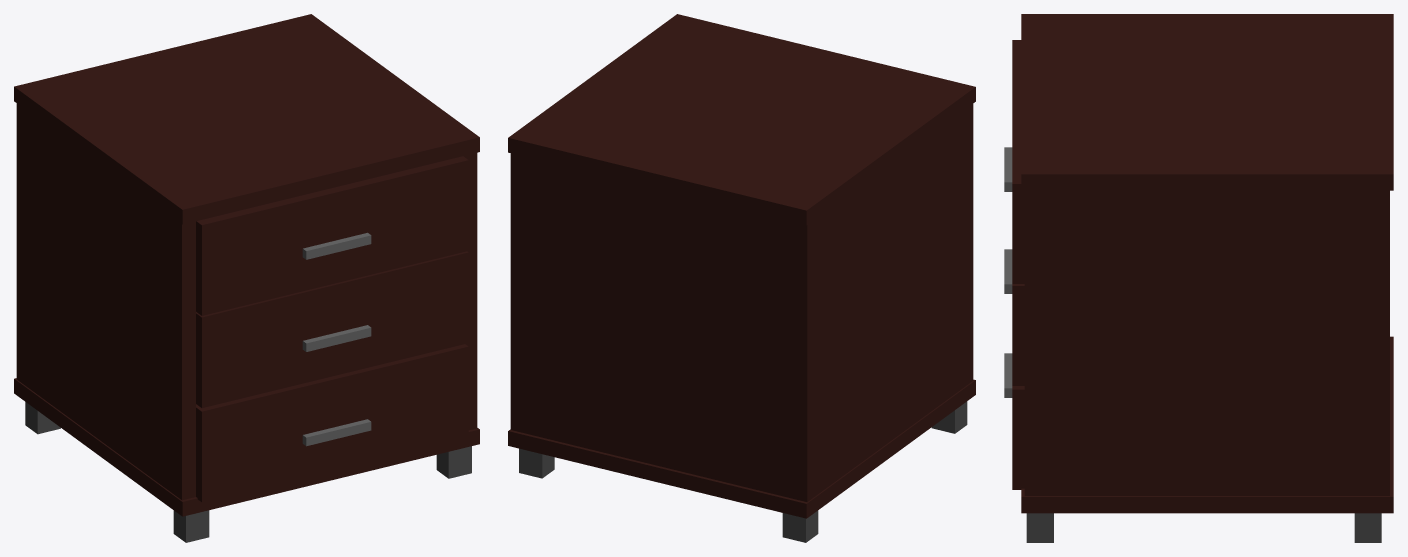
The picture shows the model from 3 angles, left to right: view 1: azimuth 30°, elevation 25°; view 2: azimuth 150°, elevation 25°; view 3: azimuth 270°, elevation 25°; orthographic projection. The views are drawn at different scales.
Parts seen in each view (by area): view 1: shelf_051; view 2: shelf_051; view 3: shelf_051.
Part boxes in pixels (box(x1,y1,x2,y2)): shelf_051: box(14, 14, 479, 542); shelf_051: box(508, 14, 975, 542); shelf_051: box(1004, 14, 1393, 542).
Size of the model in its own units: 0.4439 by 0.4798 by 0.4553.
